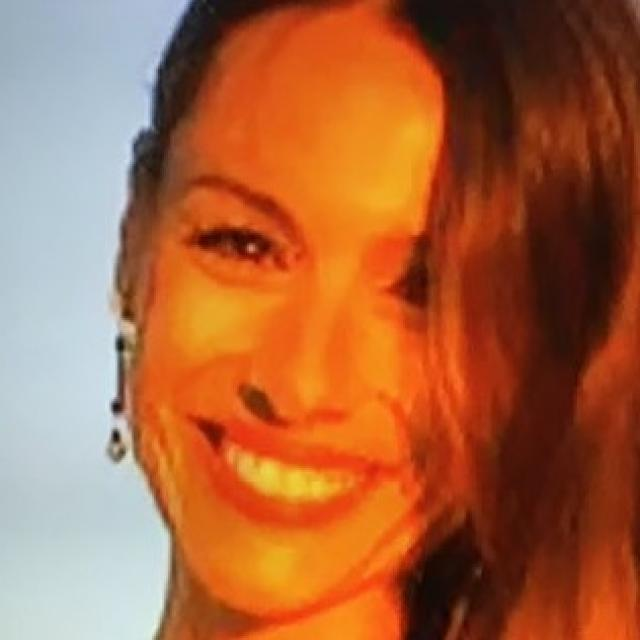Normal: (128, 7, 538, 621)
